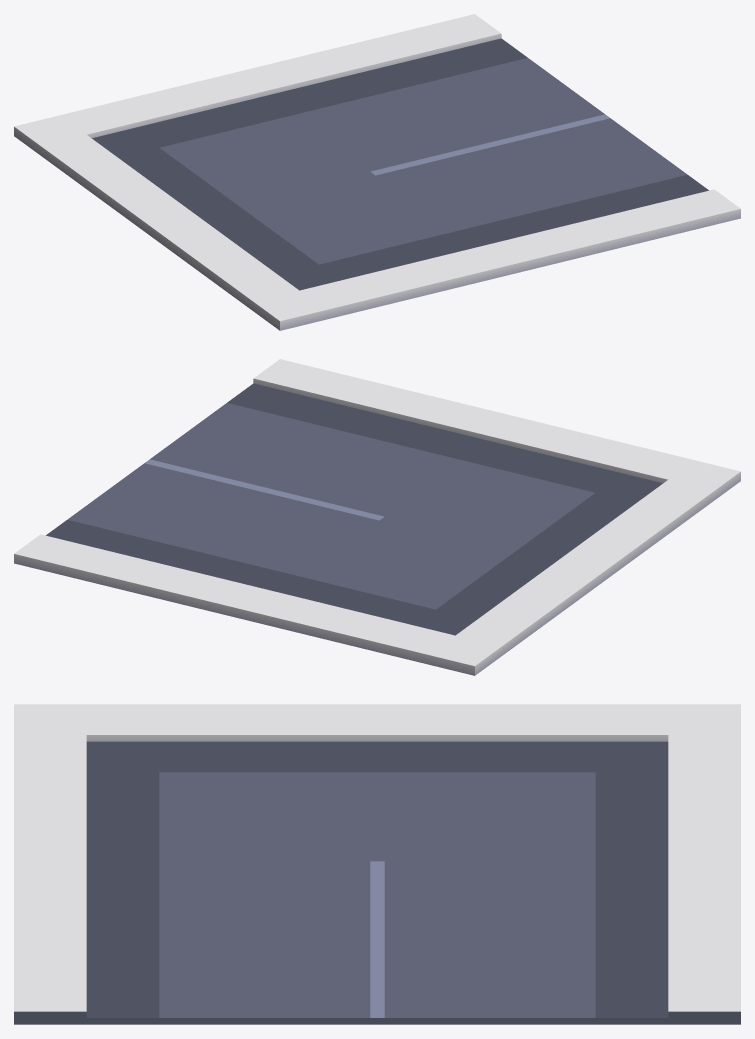
The model's file is road-end.glb.
3 renders of one model, top to bottom at view 1: azimuth 30°, elevation 25°; view 2: azimuth 150°, elevation 25°; view 3: azimuth 270°, elevation 25°, orthographic. The views are drawn at different scales.
Visible parts, largest first — view 1: road-end; view 2: road-end; view 3: road-end.
Boxes of the visible parts, <box> form: road-end: <box>14,14,740,330</box>; road-end: <box>14,359,740,675</box>; road-end: <box>14,704,740,1024</box>.
Bounding box in the file's own units: 1 × 0.02 × 1.
1 material, 1 textured.
